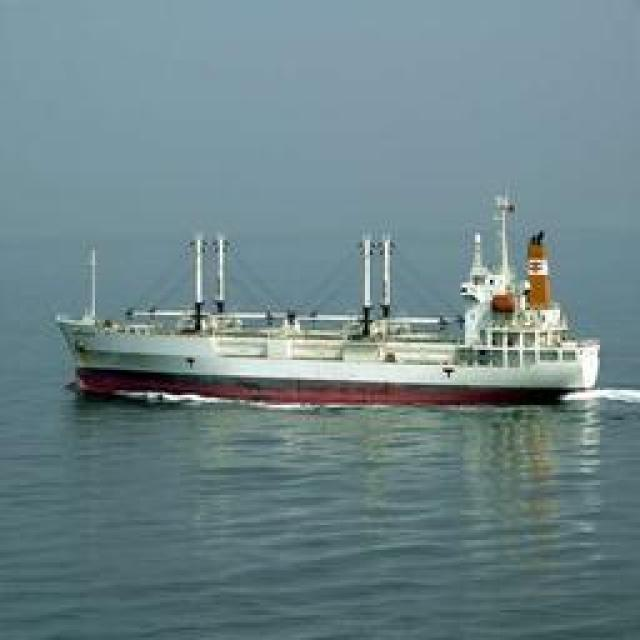CIV_Ship: (58, 202, 632, 408)
